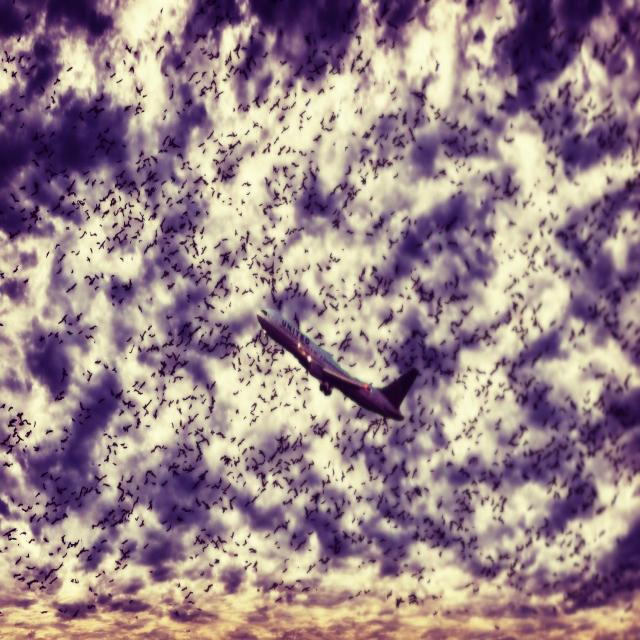airplane: (256, 306, 421, 422)
